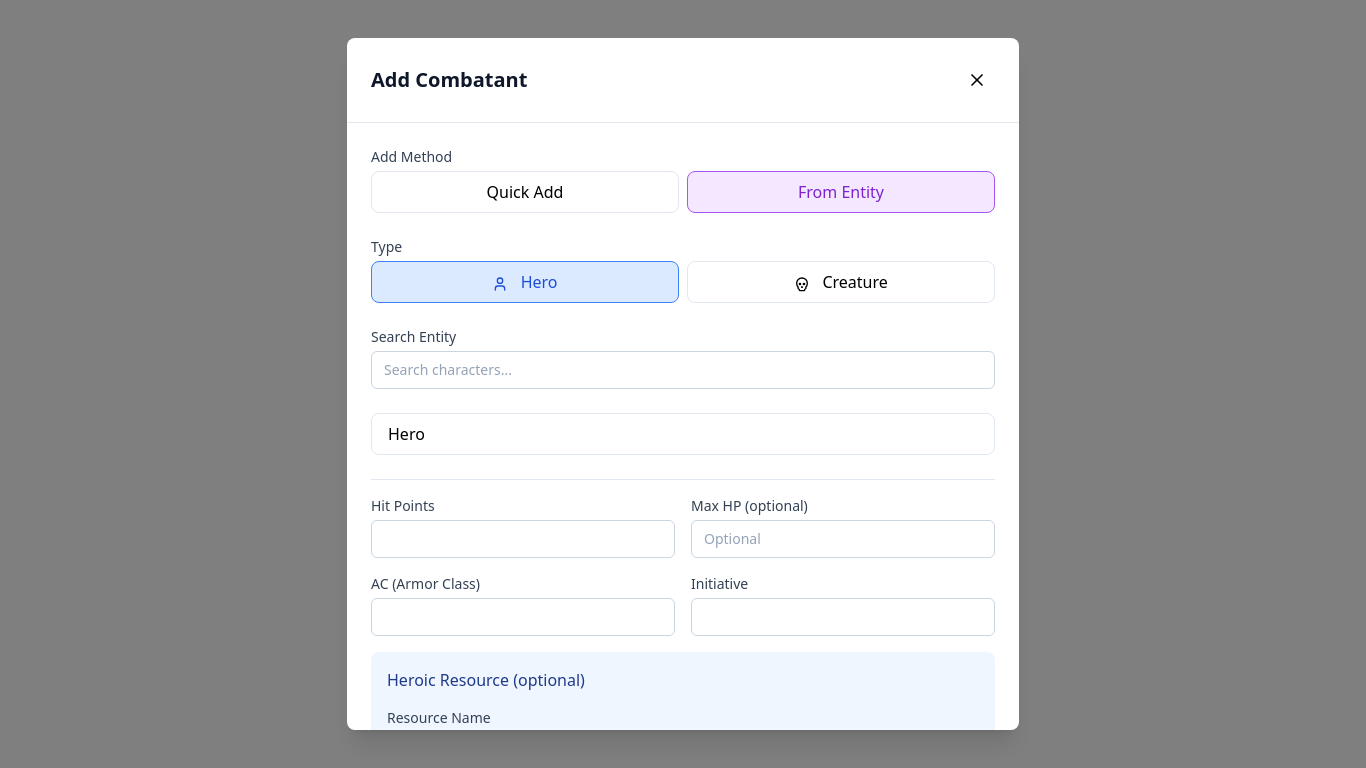
Test: AddCombatantModal - Hero-Specific Fields › should not show heroic resource fields when Creature type is selected
Click the button "Creature" at point(841, 282), box [687,261,995,303]
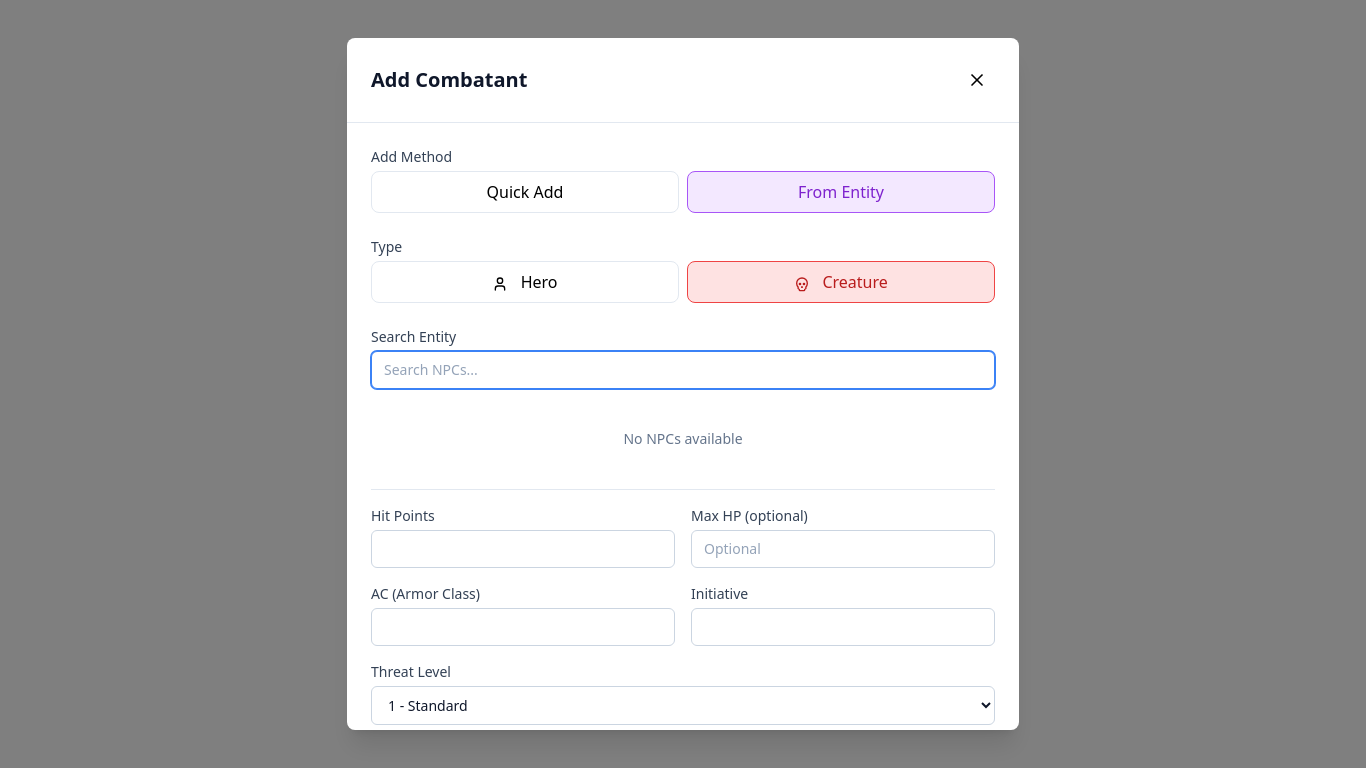
Expected: the label labelled "Resource Name" is gone
